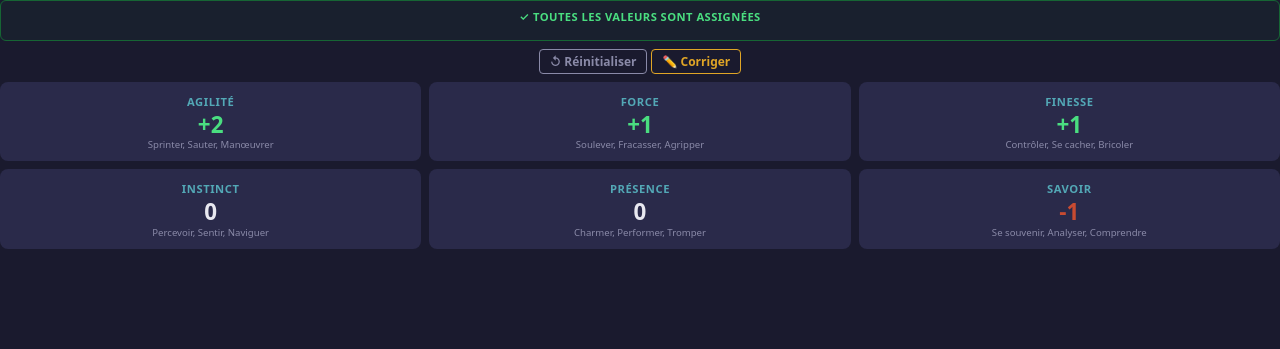
Test case: TraitBlock — correction manuelle › le bouton « Corriger » révèle les contrôles sur chaque trait
Click the button with class "trait-action-btn--correct": point(696, 61) top-left (651, 49), bottom-right (741, 74)
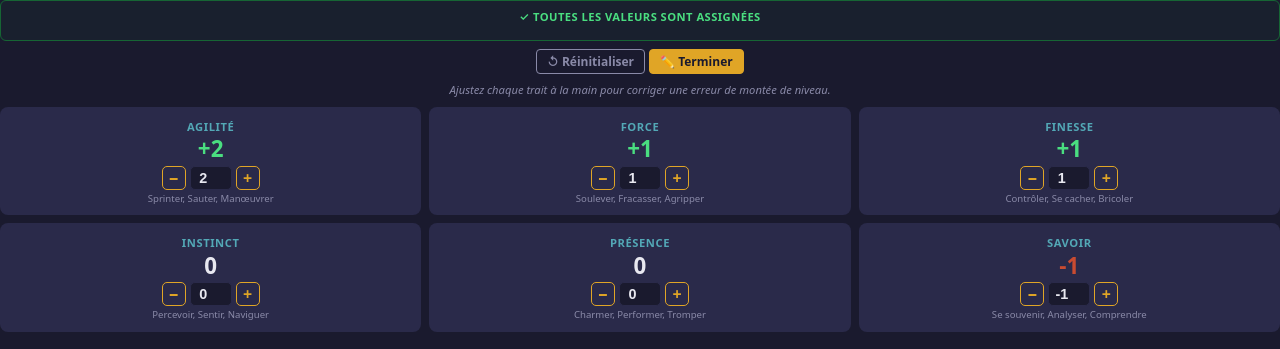
Check: the number of elements with class "trait-correct" is 6, box top-left (162, 166), bottom-right (260, 190); top-left (591, 166), bottom-right (689, 190); top-left (1020, 166), bottom-right (1118, 190); top-left (162, 282), bottom-right (260, 306); top-left (591, 282), bottom-right (689, 306); top-left (1020, 282), bottom-right (1118, 306)
